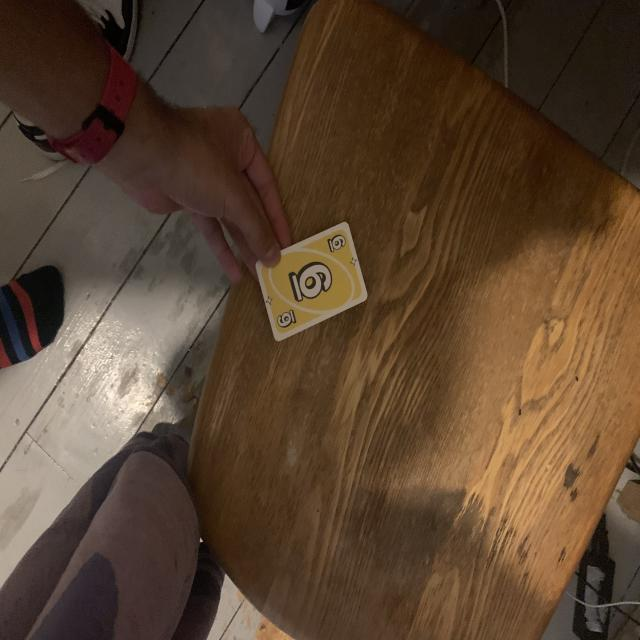lyellow-6: (324, 229, 349, 258)
